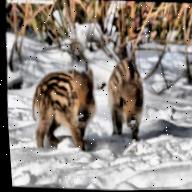boar: (36, 57, 115, 152), (95, 48, 166, 140)
